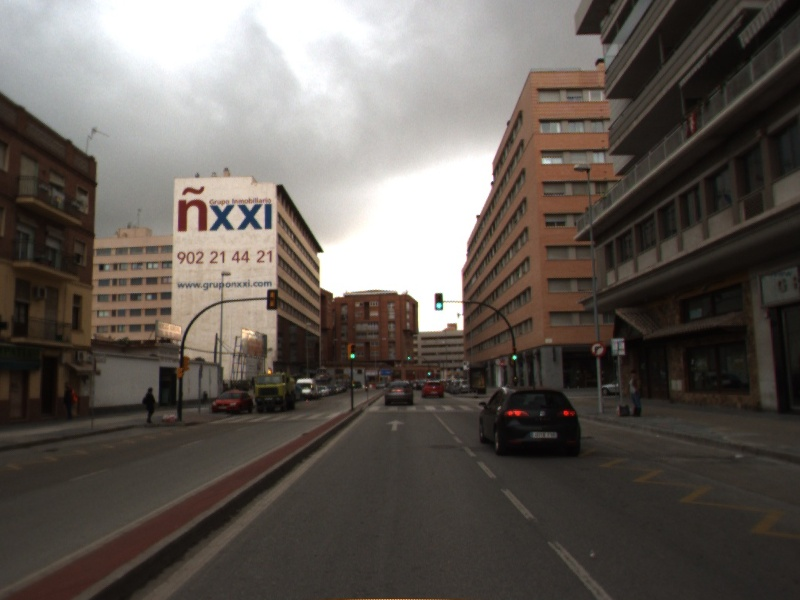STRAIGHT: (384, 418, 407, 433)
